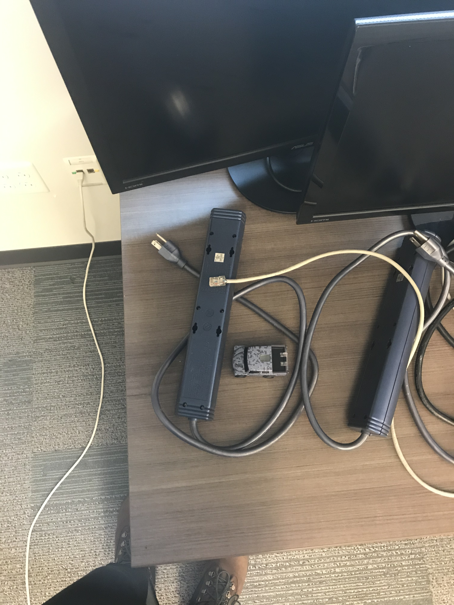MXT: (229, 343, 290, 381)
